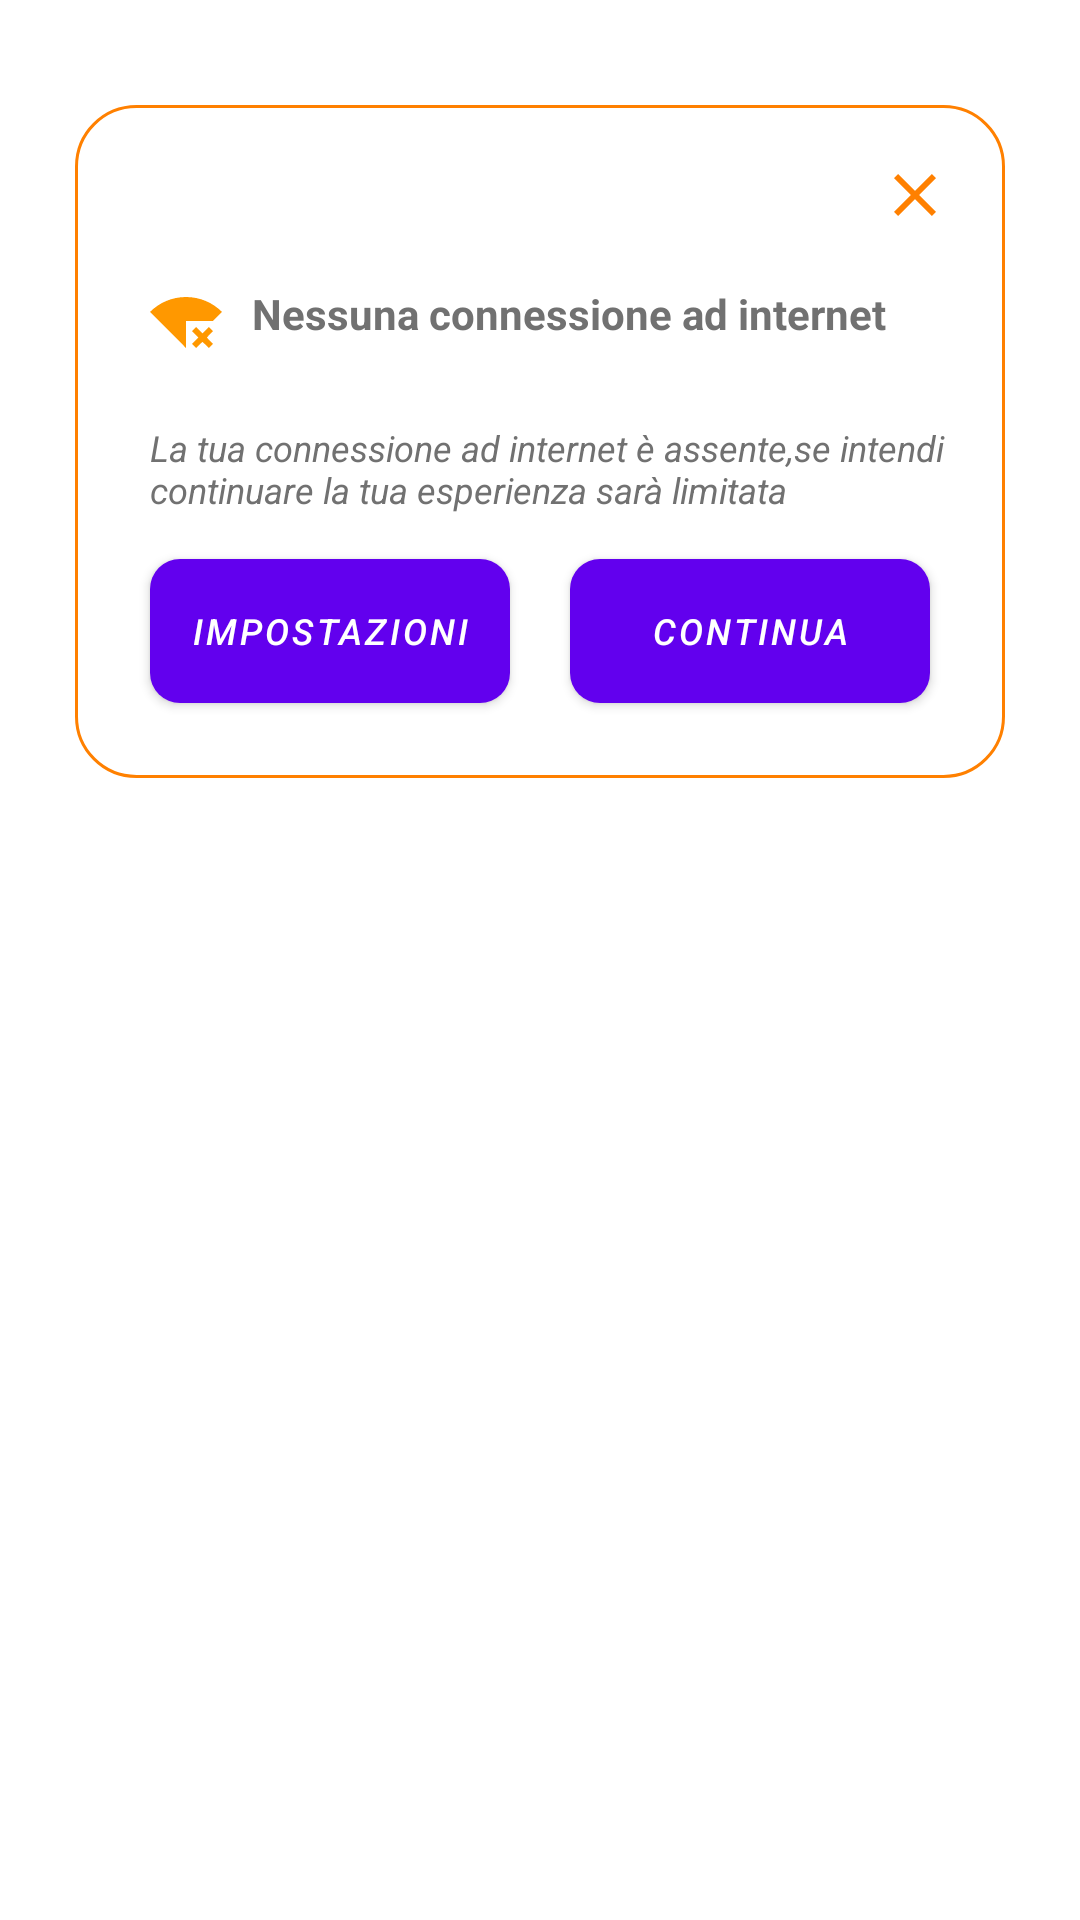

Where to tap for icons on this 1080px x 1920px app screen, as (x,y):
exit: (915,195)
